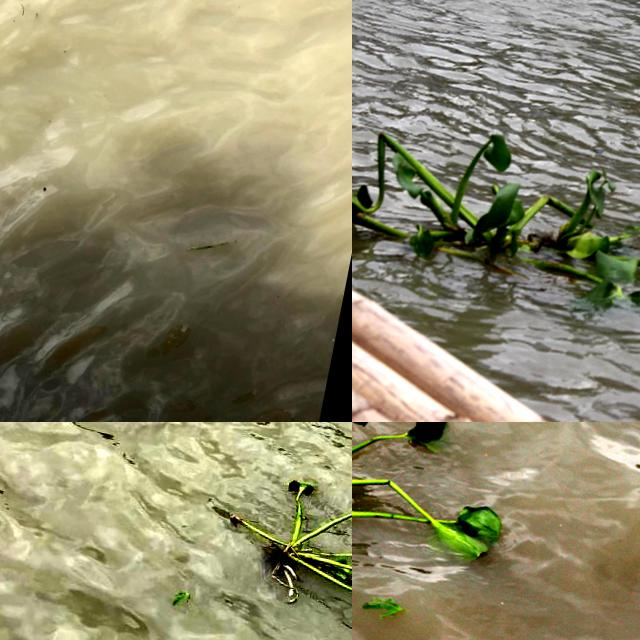water-hyacinth: (353, 92, 640, 333), (353, 423, 542, 610), (202, 458, 353, 640)
